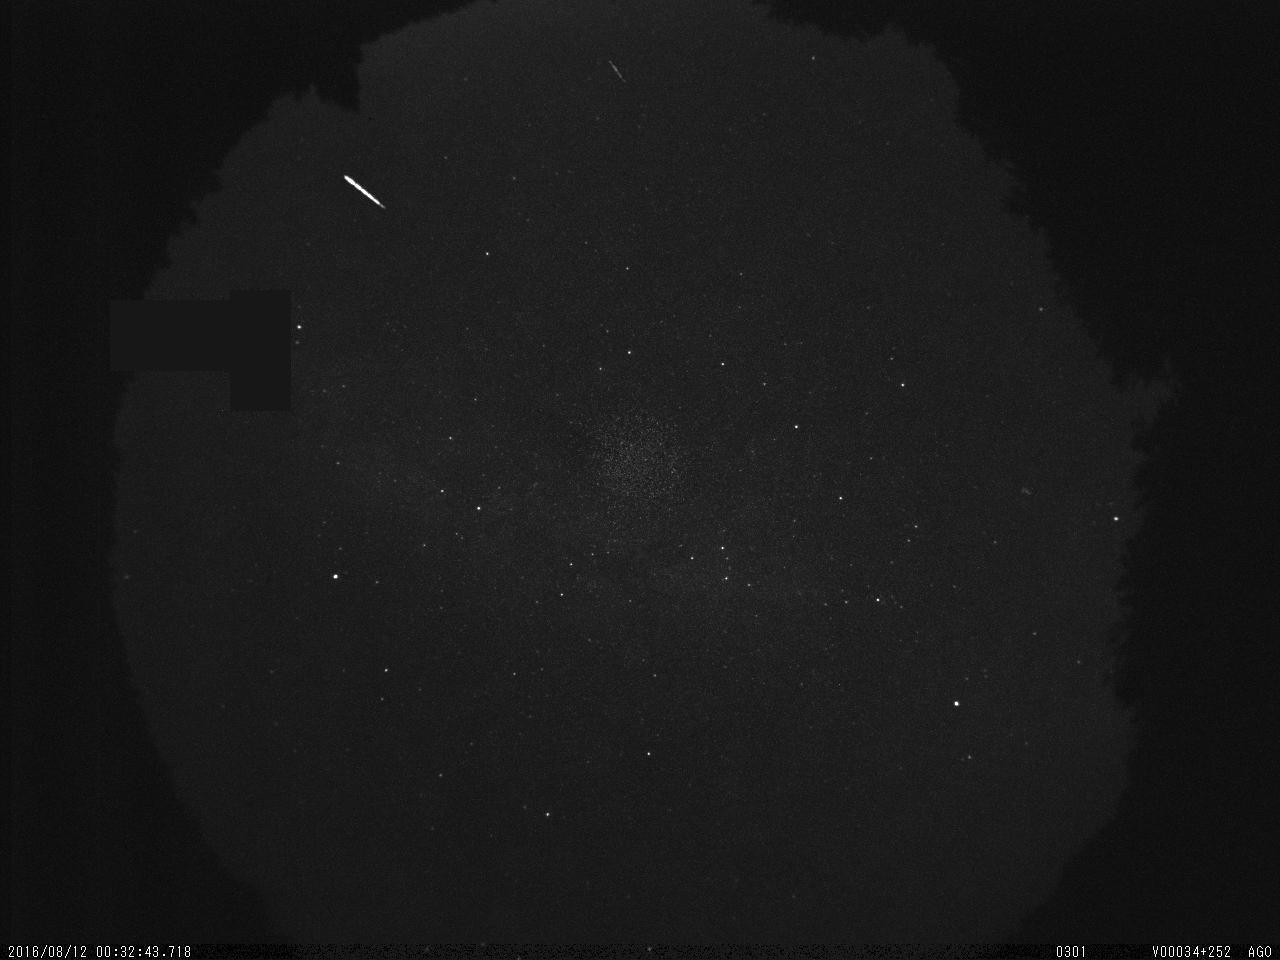Meteor: (338, 168, 390, 219), (605, 54, 630, 89)
